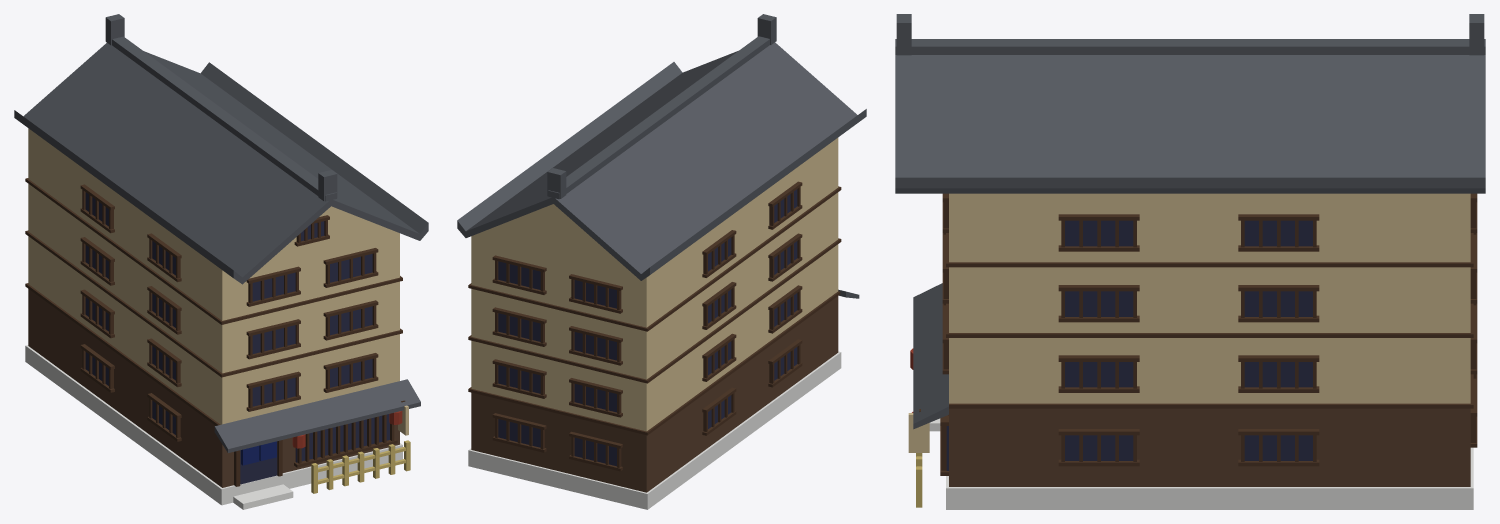
File: house-1x2-4f-machiya-a.glb
3 views of the same model, side by side, from view 1: azimuth 30°, elevation 25°; view 2: azimuth 150°, elevation 25°; view 3: azimuth 270°, elevation 25° (orthographic). The views are drawn at different scales.
Visible parts, largest first — view 1: house-1x2-4f-machiya-a; view 2: house-1x2-4f-machiya-a; view 3: house-1x2-4f-machiya-a.
Boxes of the visible parts, box(x1,y1,x2,y2) form: house-1x2-4f-machiya-a: box(14, 14, 428, 509); house-1x2-4f-machiya-a: box(457, 14, 866, 509); house-1x2-4f-machiya-a: box(895, 14, 1485, 509).
Bounding box in the file's own units: 1.01 × 1.59 × 1.97.
1 material, 1 textured.
